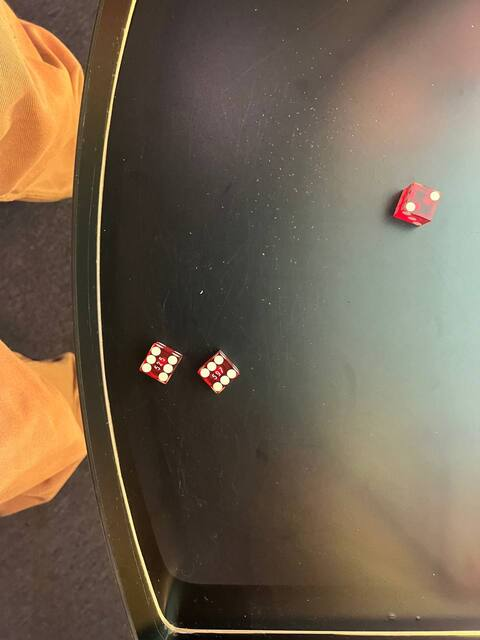six: (194, 349, 242, 397), (137, 342, 183, 386)
two: (399, 179, 444, 218)
